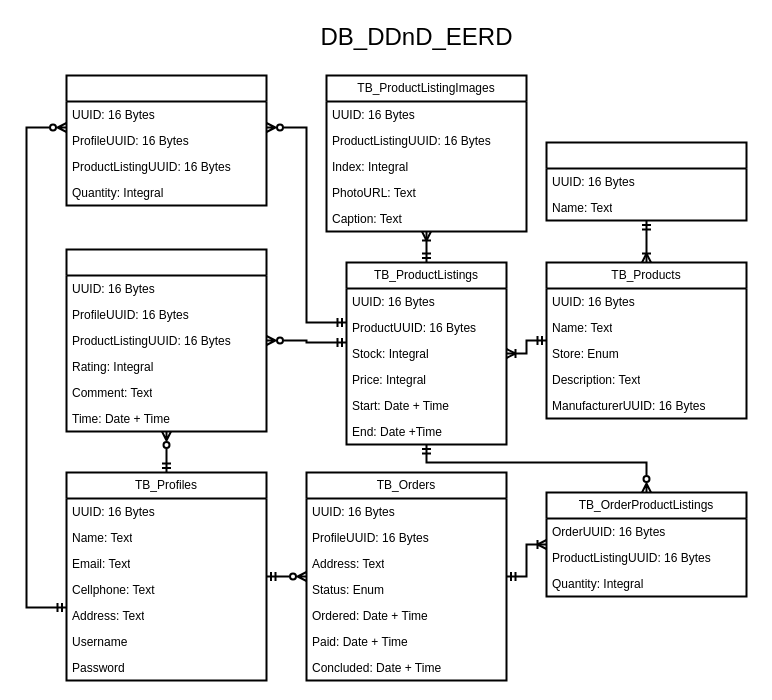
This 772x700 diagram has some shape labels left out. Each missing label, with the box of its shape:
TB_CartItems: (65, 74, 267, 206)
TB_Manufacturers: (545, 141, 747, 221)
TB_Reviews: (65, 248, 267, 432)
